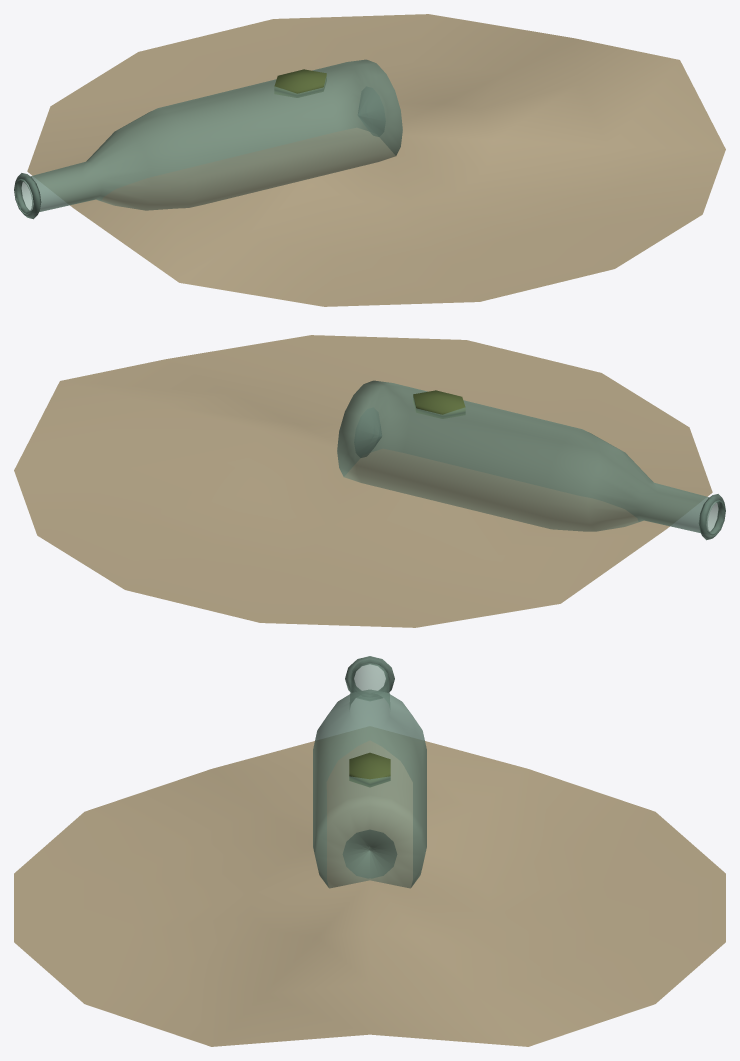
Rendered from lake-bottle-shallows-0.glb.
3 renders of one model, top to bottom at view 1: azimuth 30°, elevation 25°; view 2: azimuth 150°, elevation 25°; view 3: azimuth 270°, elevation 25°, orthographic. The views are drawn at different scales.
Visible parts, largest first — view 1: lake-bottle-shallows-0; view 2: lake-bottle-shallows-0; view 3: lake-bottle-shallows-0.
Part boxes in pixels (left/top/right/bottom): lake-bottle-shallows-0: left=14, top=14, right=725, bottom=306; lake-bottle-shallows-0: left=14, top=335, right=725, bottom=627; lake-bottle-shallows-0: left=14, top=656, right=725, bottom=1046.
Bounding box in the file's own units: 0.519 × 0.078 × 0.468.
